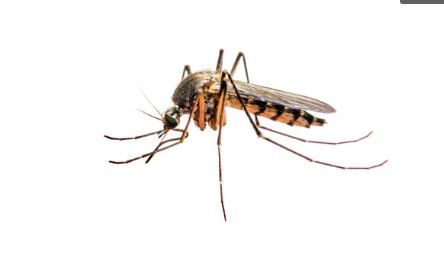dengue_mosquito: (104, 48, 388, 171)
